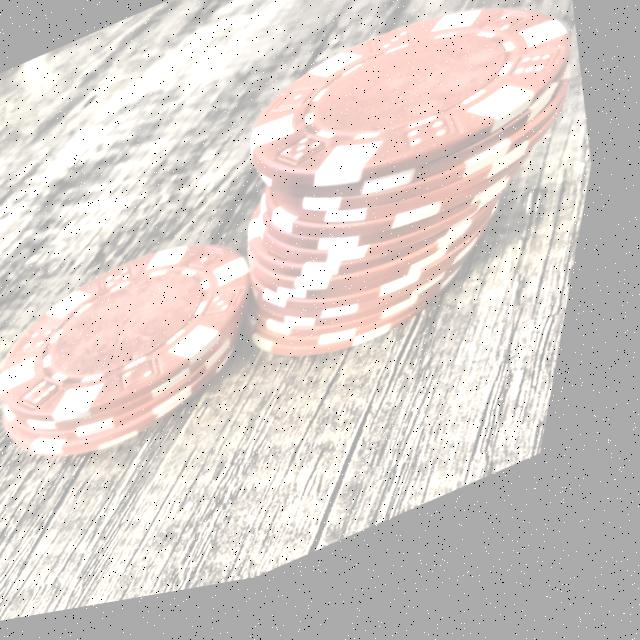Chip: (182, 0, 633, 417), (0, 214, 305, 503)
